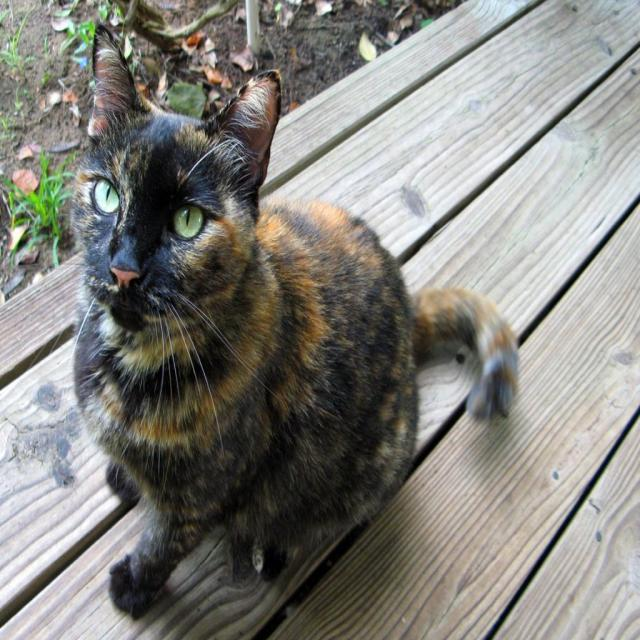Cat: (64, 19, 520, 618)
